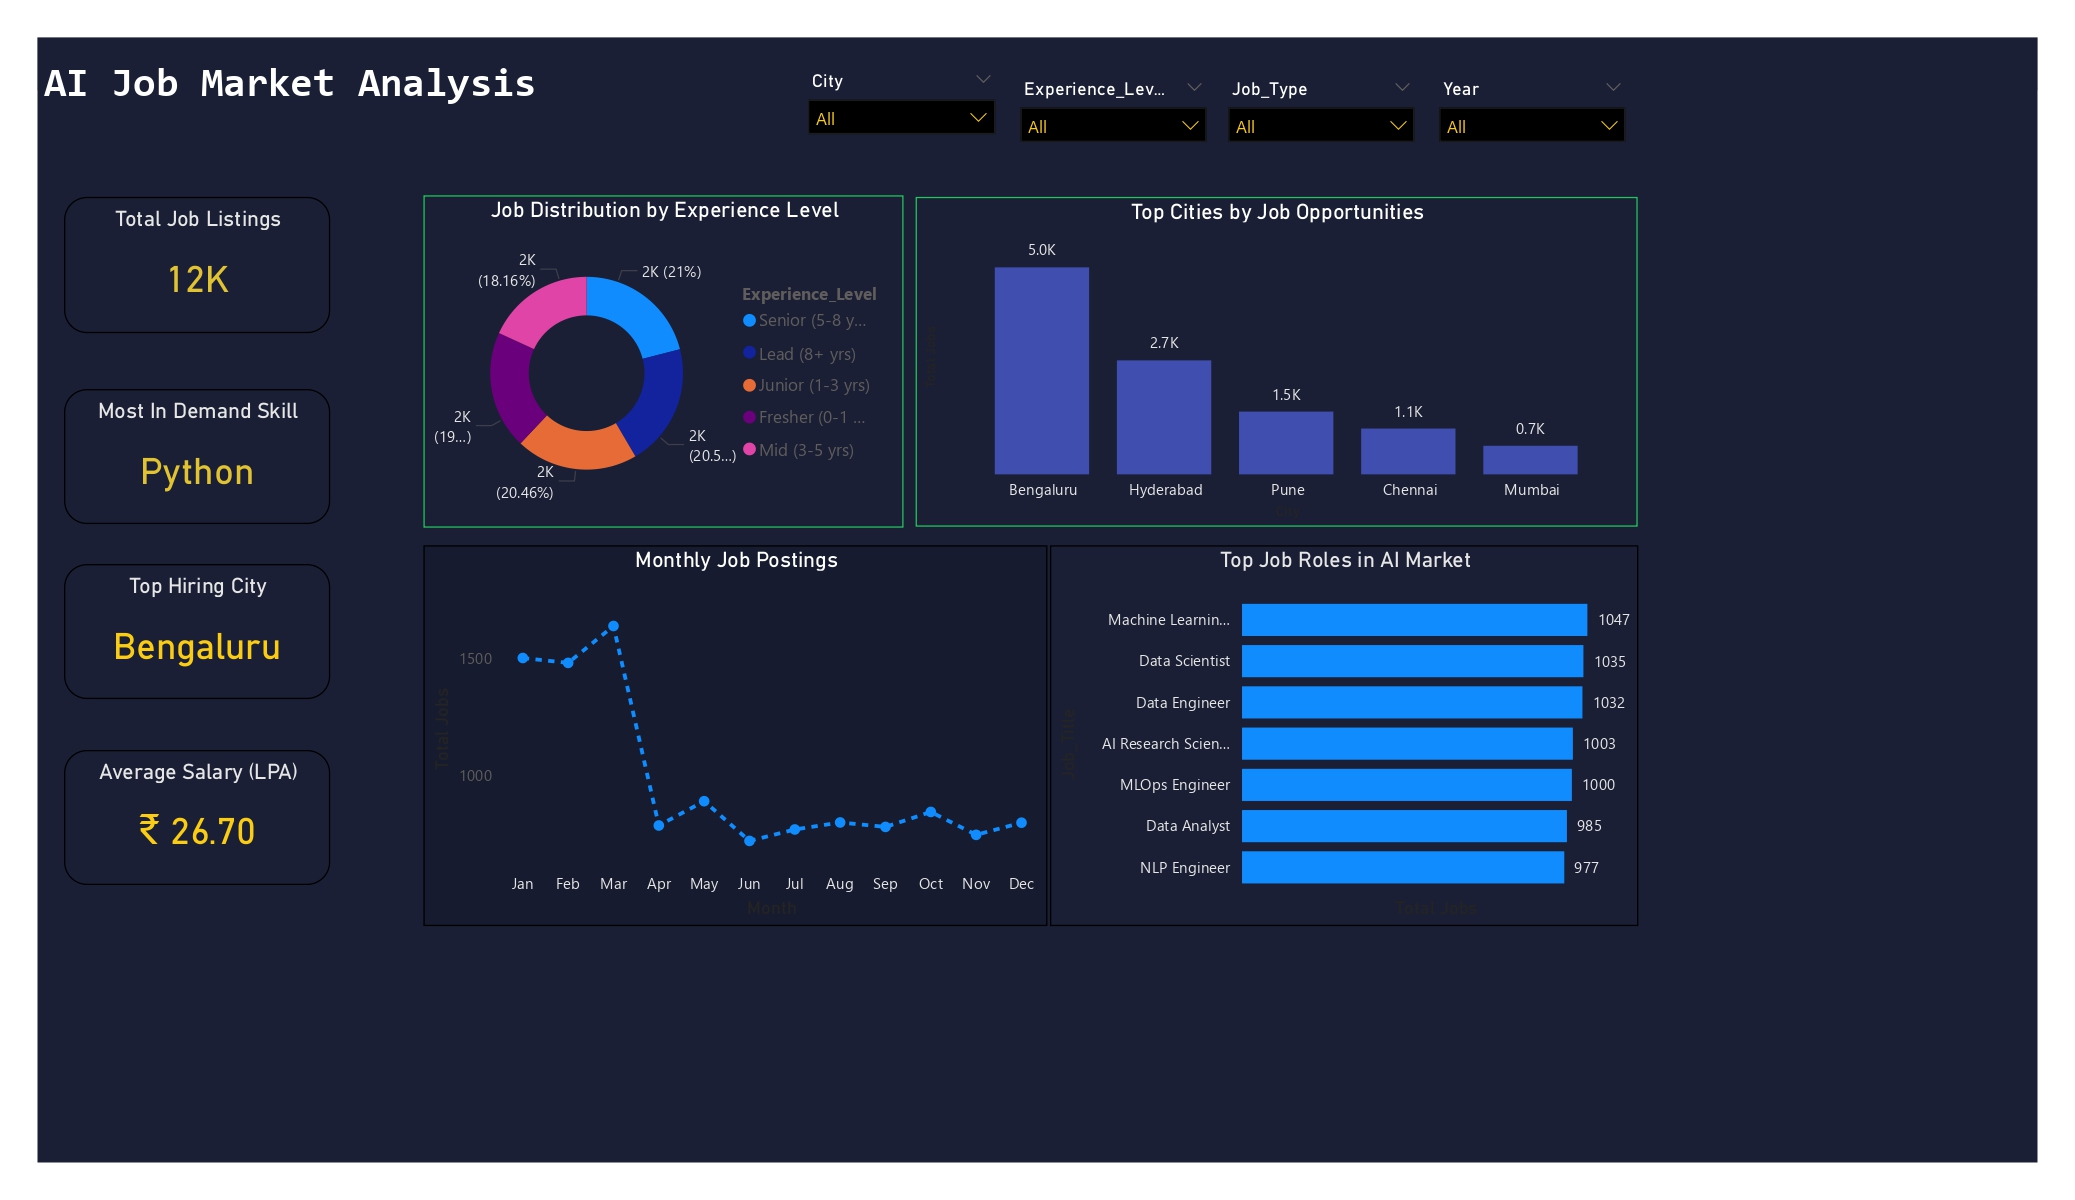

The page's visual inventory and layout, read from the dashboard file:
{"tool":"powerbi","page":{"name":"job overview","canvas":[1280,720],"ordinal":0},"visuals":[{"type":"card","title":"Total Job Listings","fields":{"Values":["calculation_Table.Total Jobs"]},"box":[20.9,125.2,208.6,106.7],"z":0},{"type":"card","title":"Average Salary (LPA)","fields":{"Values":["calculation_Table.Avg Salary"]},"box":[20.9,559.5,208.6,105.5],"z":1000},{"type":"card","title":"Most In Demand Skill","fields":{"Values":["calculation_Table.Top Skill"]},"box":[20.6,275.8,208.6,106],"z":2000},{"type":"card","title":"Top Hiring City","fields":{"Values":["calculation_Table.Top City"]},"box":[20.6,413,208.6,106],"z":3000},{"type":"lineChart","title":"Monthly Job Postings","fields":{"Category":["Date_Table.Month"],"Y":["calculation_Table.Total Jobs"]},"box":[303.3,399.3,489.9,299.1],"z":4000},{"type":"clusteredBarChart","title":"Top Job Roles in AI Market","fields":{"Category":["ai_job_market_india.Job_Title"],"Y":["calculation_Table.Total Jobs"]},"box":[794.5,399.3,462.4,299.1],"z":5000},{"type":"donutChart","title":"Job Distribution by Experience Level","fields":{"Y":["calculation_Table.Total Jobs"],"Category":["ai_job_market_india.Experience_Level"]},"box":[303,124.2,377.3,260.6],"z":6000},{"type":"slicer","fields":{"Values":["ai_job_market_india.City"]},"box":[595.1,20.9,166.9,76.1],"z":7000},{"type":"clusteredColumnChart","title":"Top Cities by Job Opportunities","fields":{"Y":["calculation_Table.Total Jobs"],"Category":["ai_job_market_india.City"]},"box":[689.6,125.2,566.9,258.9],"z":8000},{"type":"slicer","fields":{"Values":["ai_job_market_india.Experience_Level"]},"box":[761.6,27.4,166,70],"z":9000},{"type":"textbox","box":[0,12.1,431.8,71.2],"z":10000},{"type":"slicer","fields":{"Values":["ai_job_market_india.Job_Type"]},"box":[924.9,27.4,166,70],"z":11000},{"type":"slicer","fields":{"Values":["Date_Table.Year"]},"box":[1090.9,27.4,166,70],"z":12000}]}

Visuals, with their boxes on the page's 1280x720 design canvas (x1, y1, x2, y2). These are canvas units, not pixel positions in the 2075x1200 screenshot, which may show the page scaled, cropped or inside an application window:
"Total Job Listings" card: 21,125,230,232
"Average Salary (LPA)" card: 21,560,230,665
"Most In Demand Skill" card: 21,276,229,382
"Top Hiring City" card: 21,413,229,519
"Monthly Job Postings" lineChart: 303,399,793,698
"Top Job Roles in AI Market" clusteredBarChart: 794,399,1257,698
"Job Distribution by Experience Level" donutChart: 303,124,680,385
slicer - ai_job_market_india.City: 595,21,762,97
"Top Cities by Job Opportunities" clusteredColumnChart: 690,125,1256,384
slicer - ai_job_market_india.Experience_Level: 762,27,928,97
textbox: 0,12,432,83
slicer - ai_job_market_india.Job_Type: 925,27,1091,97
slicer - Date_Table.Year: 1091,27,1257,97
